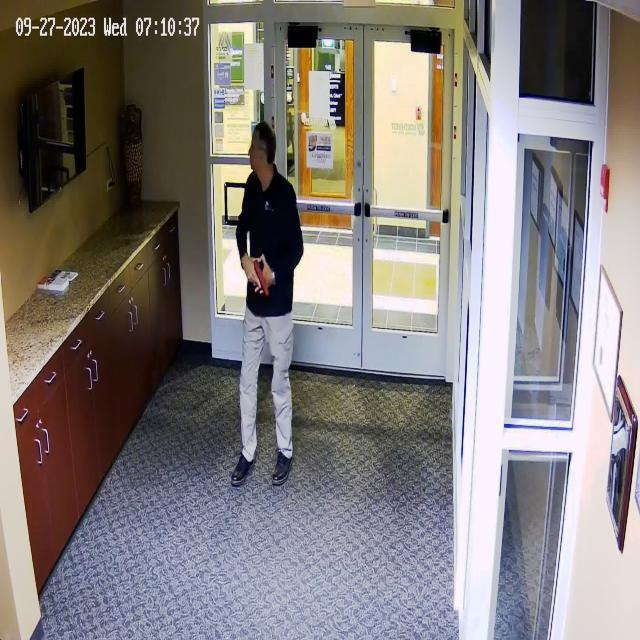Gun: (234, 252, 285, 305)
